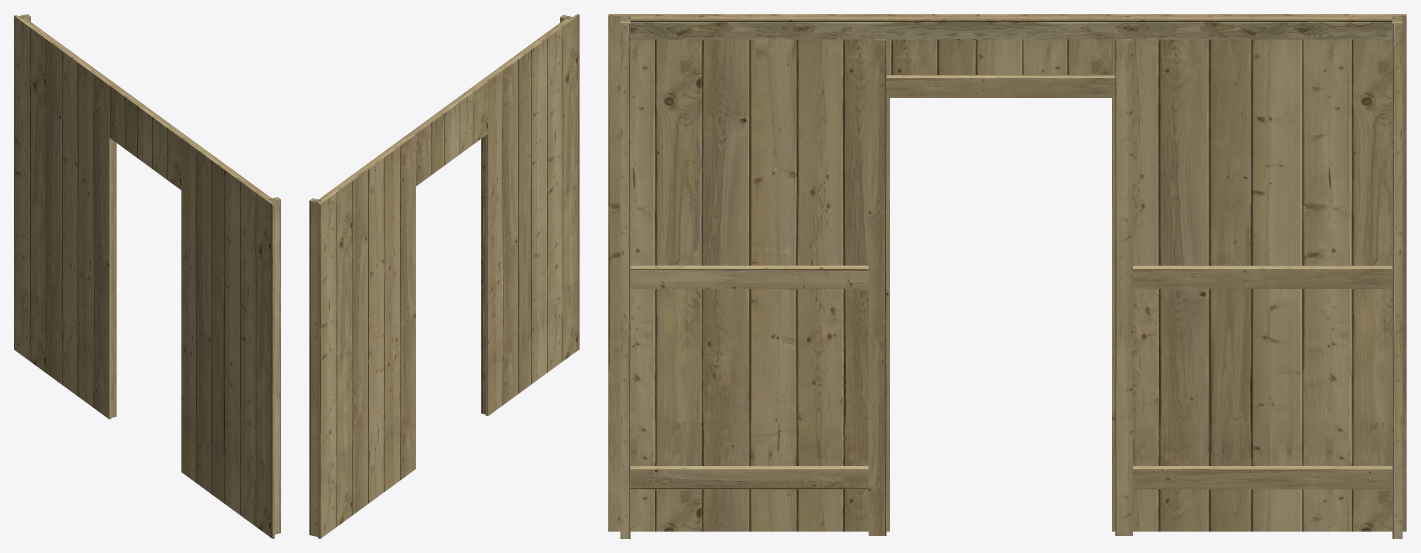
The model's file is Woodwall5.FBX.
3 renders of one model, left to right at view 1: azimuth 30°, elevation 25°; view 2: azimuth 150°, elevation 25°; view 3: azimuth 270°, elevation 25°, orthographic. The views are drawn at different scales.
Visible parts, largest first — view 1: woodwall5, woodwall5a; view 2: woodwall5, woodwall5a; view 3: woodwall5, woodwall5a.
Boxes of the visible parts, left/top/right/bottom form: woodwall5: left=14, top=15, right=274, bottom=538; woodwall5a: left=18, top=14, right=280, bottom=534; woodwall5: left=318, top=14, right=579, bottom=538; woodwall5a: left=309, top=15, right=572, bottom=536; woodwall5: left=608, top=14, right=1406, bottom=531; woodwall5a: left=620, top=16, right=1402, bottom=538.
Bounding box in the file's own units: 0.1149 × 2.99 × 4.2.
